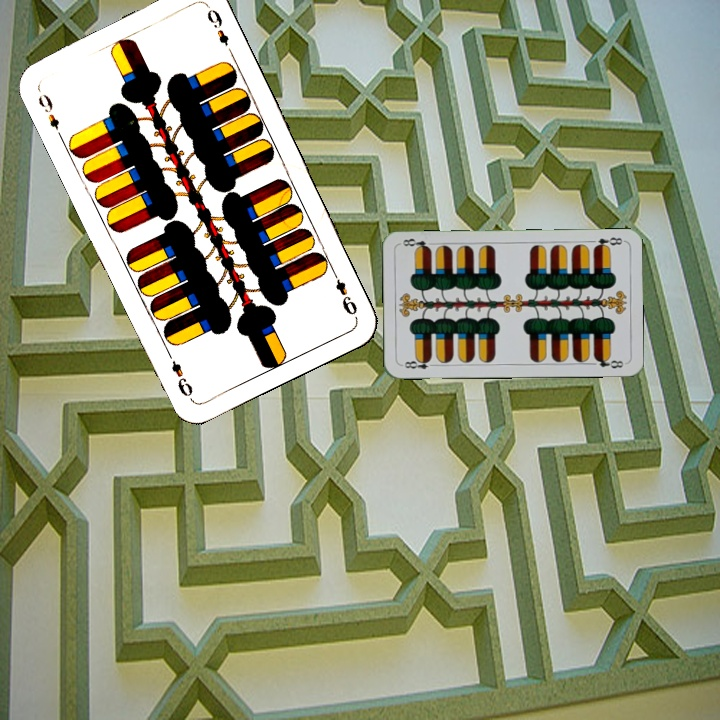E8: (398, 355, 439, 372), (590, 233, 625, 251)
E9: (327, 265, 360, 320), (34, 89, 62, 133)
